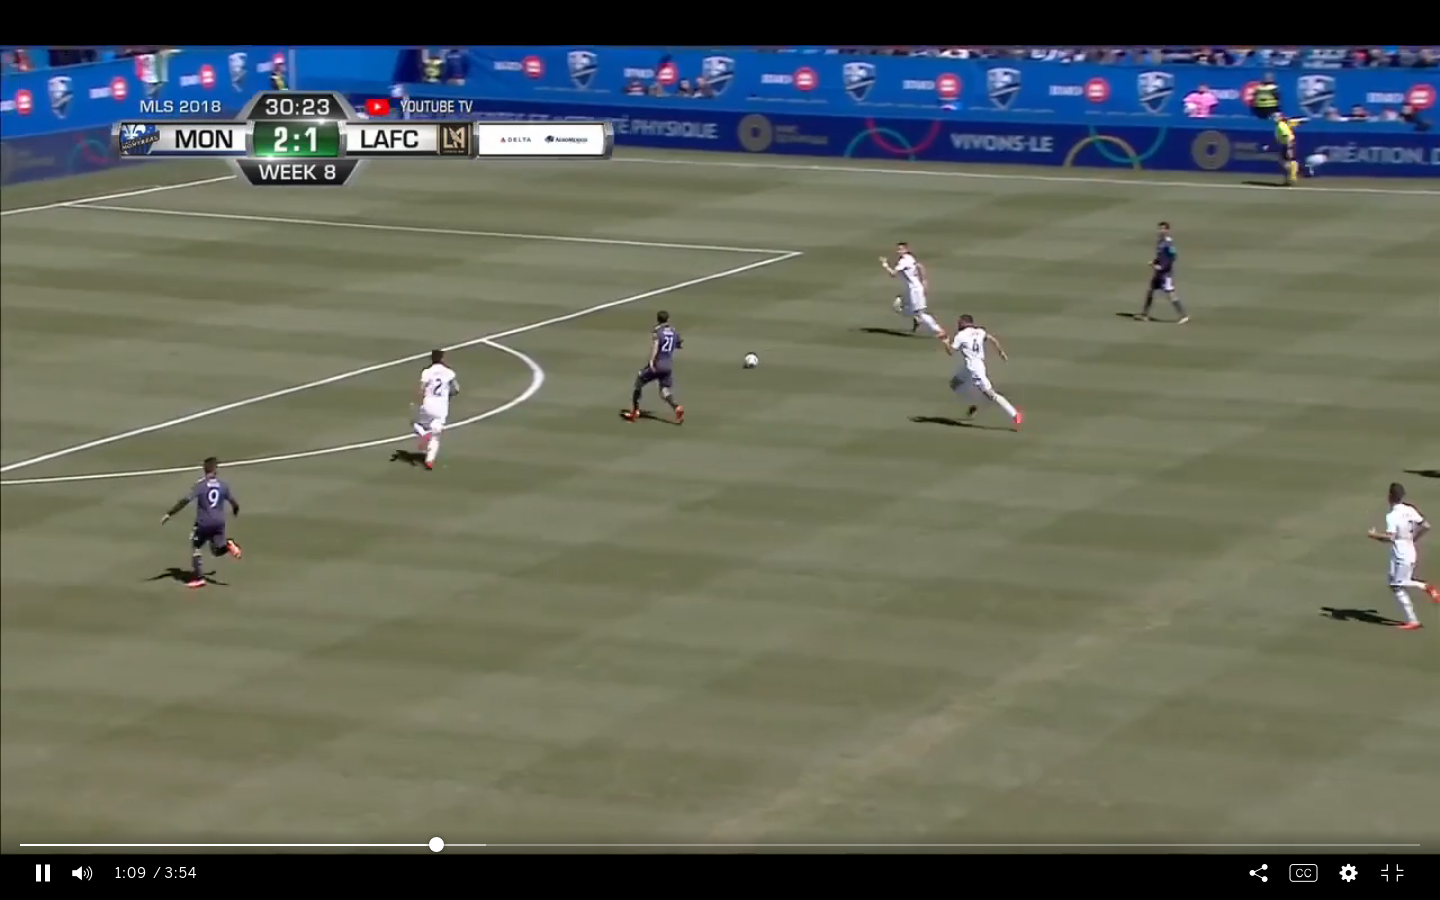soccer player: (155, 451, 250, 589), (1364, 479, 1440, 635), (936, 309, 1028, 429), (621, 303, 695, 431), (879, 237, 950, 357), (407, 349, 462, 471), (1135, 222, 1192, 328)
soccerball: (744, 351, 764, 369)
